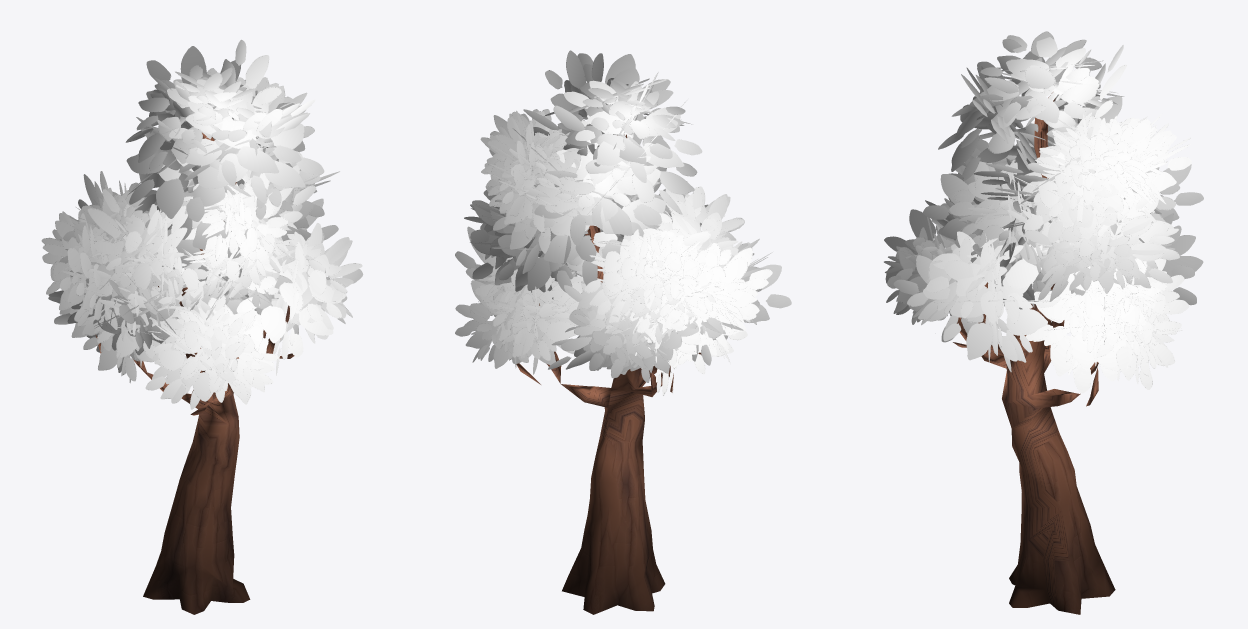
File: CommonTree_2.gltf
3 renders of one model, left to right at view 1: azimuth 30°, elevation 25°; view 2: azimuth 150°, elevation 25°; view 3: azimuth 270°, elevation 25°, orthographic. The views are drawn at different scales.
Visible parts, largest first — view 1: CommonTree_2; view 2: CommonTree_2; view 3: CommonTree_2.
Boxes of the visible parts, <box> form: CommonTree_2: <box>41,39,363,614</box>; CommonTree_2: <box>455,50,791,614</box>; CommonTree_2: <box>884,31,1203,614</box>.
Bounding box in the file's own units: 5.19 × 7.88 × 4.83.
Materials: 2 (2 with a texture image).
